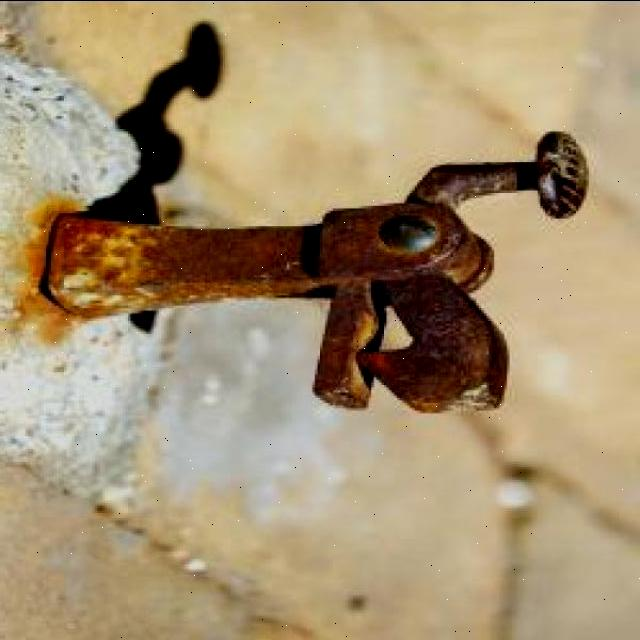corrosion: (39, 127, 590, 414)
